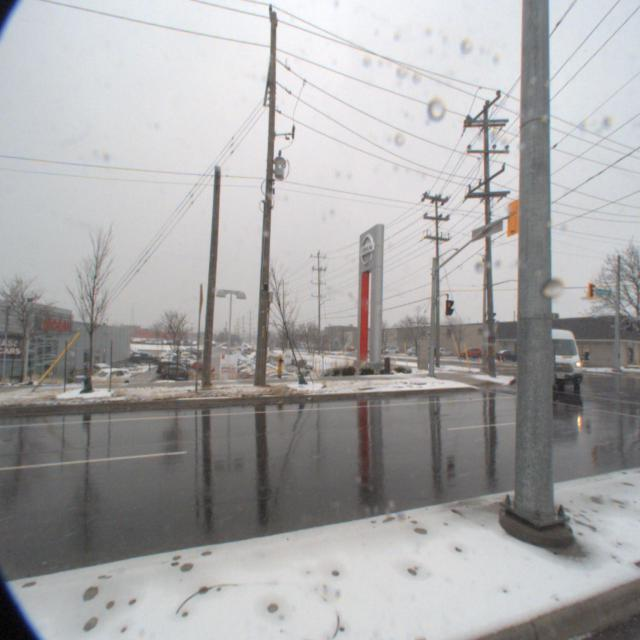Car: (519, 323, 589, 397)
